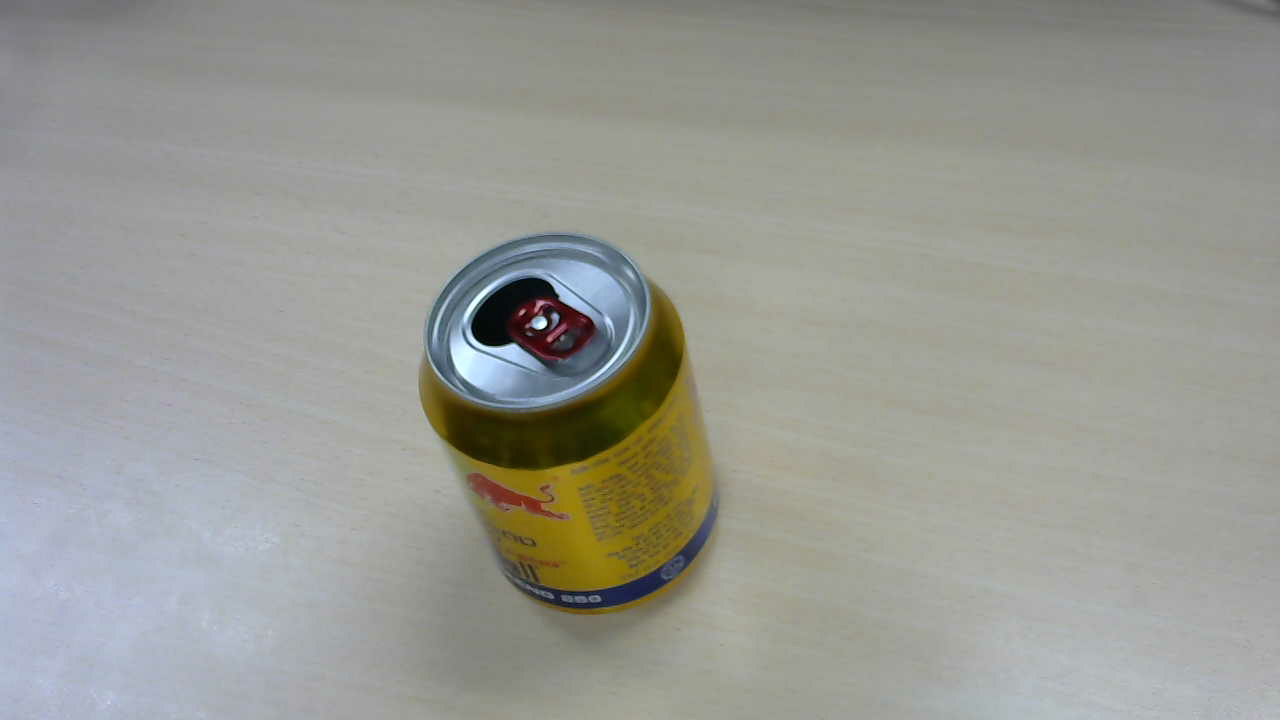Red_Bull: (423, 231, 729, 619)
